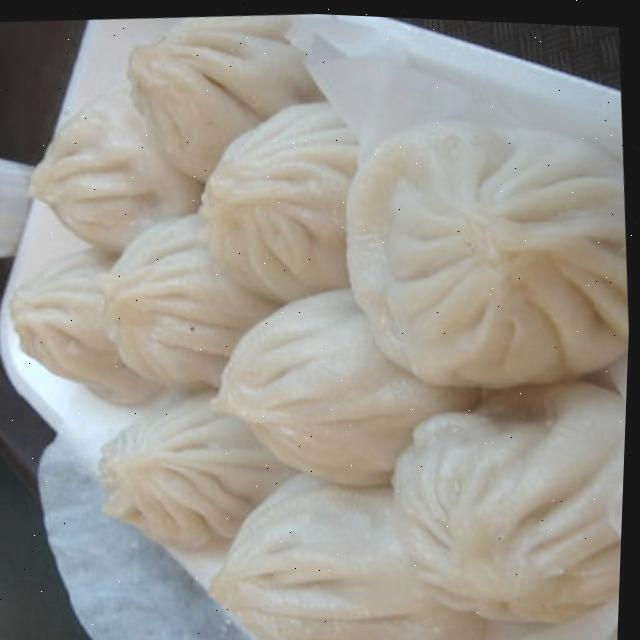带馅早点: (0, 6, 640, 640)
